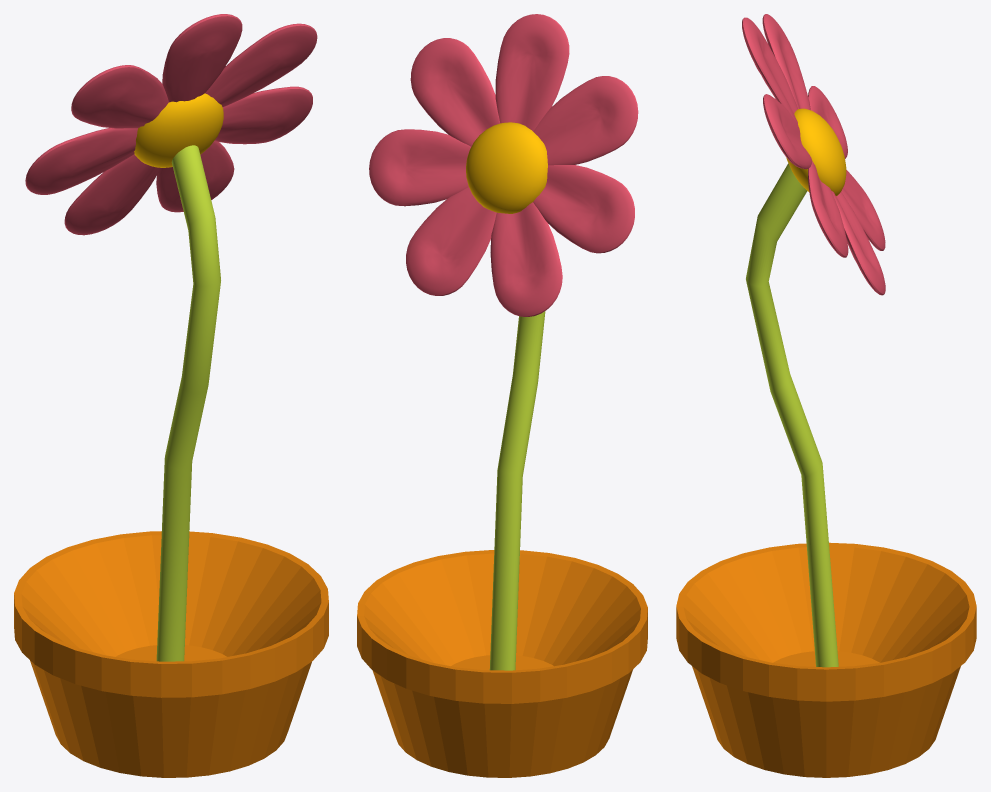
Rendered from fleur.glb.
3 views of the same model, side by side, from view 1: azimuth 30°, elevation 25°; view 2: azimuth 150°, elevation 25°; view 3: azimuth 270°, elevation 25° (orthographic). The views are drawn at different scales.
Parts seen in each view (by area): view 1: Cylinder.001, Sphere.002, Cylinder, Sphere; view 2: Cylinder.001, Sphere.002, Cylinder, Sphere; view 3: Cylinder.001, Cylinder, Sphere.002, Sphere.
Boxes of the visible parts, x1,y1,x2,y2 form: Cylinder.001: (14,531,328,777); Sphere.002: (25,14,317,235); Cylinder: (156,145,220,661); Sphere: (134,93,223,167); Cylinder.001: (357,550,647,777); Sphere.002: (369,14,638,316); Cylinder: (489,311,545,670); Sphere: (466,122,547,213); Cylinder.001: (676,542,976,777); Cylinder: (746,163,838,667); Sphere.002: (742,14,885,295); Sphere: (786,108,846,195).
Bounding box in the file's own units: 1.9 × 4.73 × 1.82.
